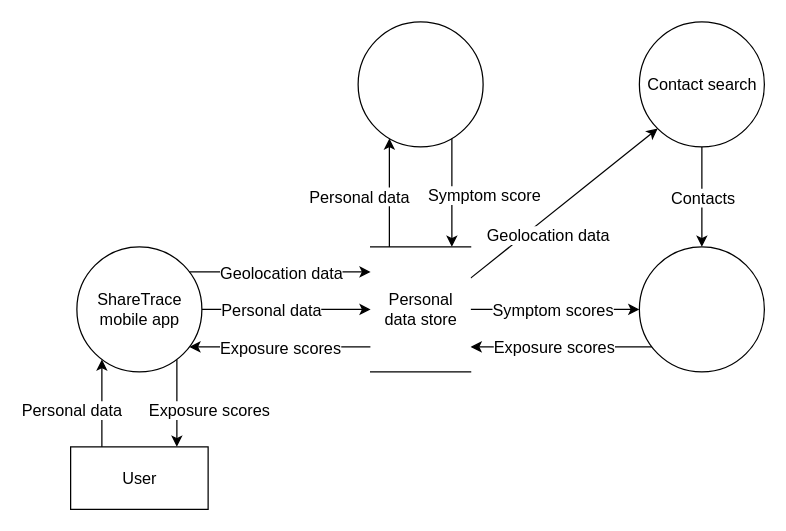
Some shapes in this 786 by 531 pixel diagram are drawn without their labels. Each missing label, with the centre of its shape:
"Compute symptom score" belongs at pixel 420 84.
"Risk propagation" belongs at pixel 701 309.
